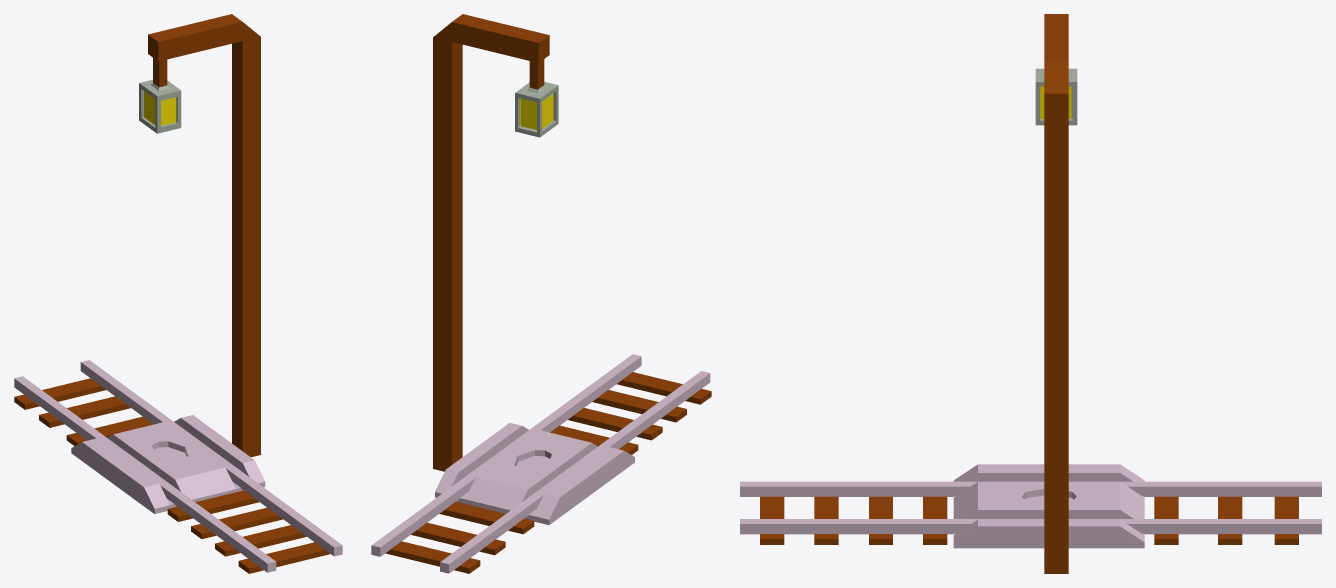
File: checkPointRails.fbx
The picture shows the model from 3 angles, left to right: view 1: azimuth 30°, elevation 25°; view 2: azimuth 150°, elevation 25°; view 3: azimuth 270°, elevation 25°; orthographic projection. The views are drawn at different scales.
Parts seen in each view (by area): view 1: Cube.007, Cube.006, Cube.001, Cube, Cube.004, Cube.005, Cube.010, Cube.011, Cube.002, Cube.003, Cube.009; view 2: Cube.007, Cube.006, Cube.001, Cube, Cube.011, Cube.009, Cube.003, Cube.004, Cube.010, Cube.002, Cube.005; view 3: Cube.007, Cube.006, Cube, Cube.001, Cube.002, Cube.009, Cube.004, Cube.005, Cube.010, Cube.011, Cube.003.
Boxes of the visible parts, bbox=[...] form: Cube.007: bbox=[139, 14, 260, 457]; Cube.006: bbox=[71, 415, 265, 513]; Cube.001: bbox=[80, 360, 342, 556]; Cube: bbox=[14, 376, 276, 572]; Cube.004: bbox=[238, 542, 329, 573]; Cube.005: bbox=[167, 490, 259, 521]; Cube.010: bbox=[39, 396, 130, 427]; Cube.011: bbox=[14, 378, 105, 409]; Cube.002: bbox=[215, 525, 306, 556]; Cube.003: bbox=[191, 507, 282, 538]; Cube.009: bbox=[66, 416, 153, 446]; Cube.007: bbox=[433, 14, 558, 471]; Cube.006: bbox=[435, 423, 634, 524]; Cube.001: bbox=[371, 354, 641, 556]; Cube: bbox=[440, 371, 710, 573]; Cube.011: bbox=[385, 541, 480, 573]; Cube.009: bbox=[439, 501, 534, 534]; Cube.003: bbox=[568, 408, 662, 440]; Cube.004: bbox=[616, 372, 711, 404]; Cube.010: bbox=[411, 522, 505, 555]; Cube.002: bbox=[592, 390, 686, 422]; Cube.005: bbox=[550, 425, 638, 454]; Cube.007: bbox=[1035, 14, 1077, 573]; Cube.006: bbox=[953, 464, 1144, 548]; Cube: bbox=[740, 481, 1321, 496]; Cube.001: bbox=[740, 519, 1321, 534]; Cube.002: bbox=[814, 496, 838, 544]; Cube.009: bbox=[1154, 496, 1178, 544]; Cube.004: bbox=[760, 496, 784, 544]; Cube.005: bbox=[923, 496, 947, 544]; Cube.010: bbox=[1218, 496, 1242, 544]; Cube.011: bbox=[1274, 496, 1298, 544]; Cube.003: bbox=[869, 496, 892, 544].
Bounding box in the file's own units: 1591 × 4565 × 4789.
